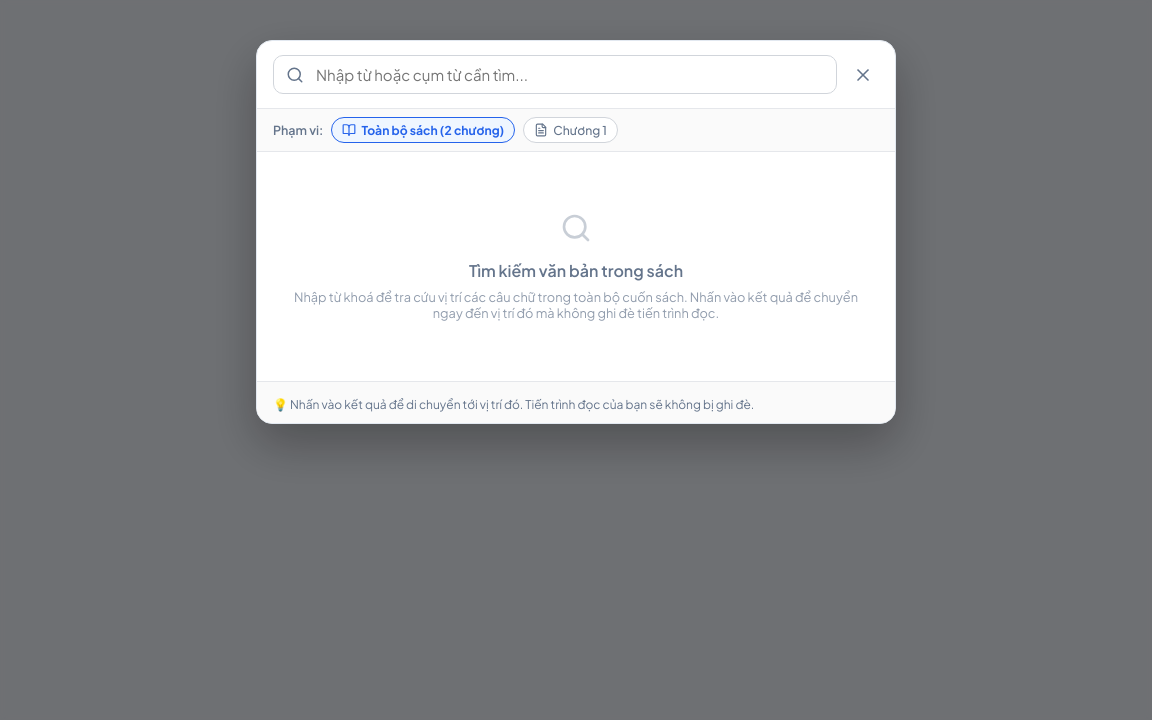
it: BookSearchModal › tìm kiếm trong chương hiện tại khi scope = current
Note: Chuyển sang scope Chương 1
Click the button "Chương 1" at (571, 130), box top-left (523, 117), bottom-right (618, 143)
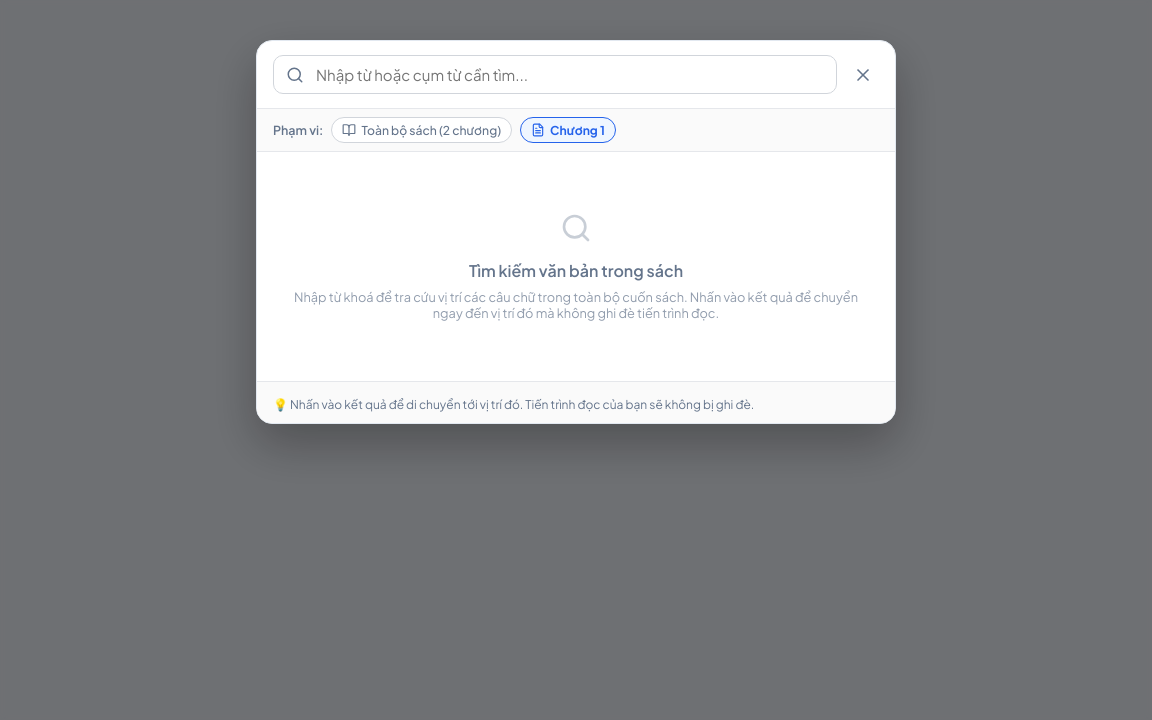
Type "ước mơ" into the field with placeholder "Nhập từ hoặc cụm từ cần tìm..." at (569, 74), box top-left (314, 64), bottom-right (824, 85)
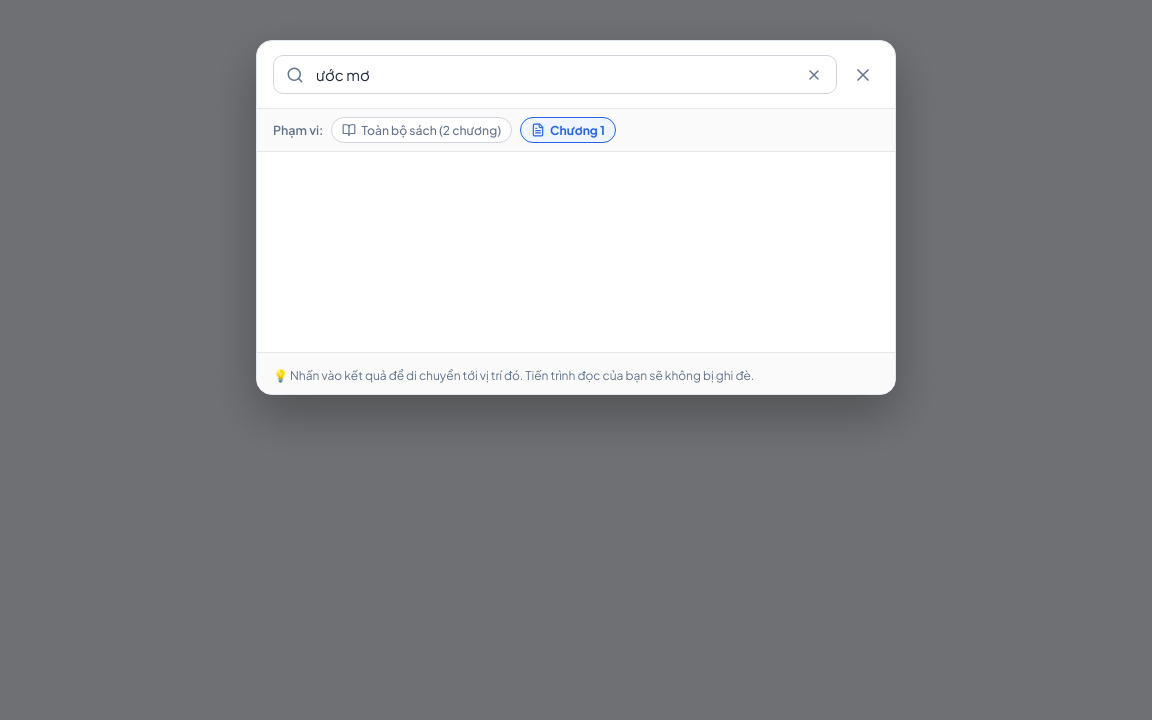
Press Enter in the field with placeholder "Nhập từ hoặc cụm từ cần tìm...", box top-left (314, 64), bottom-right (794, 85)
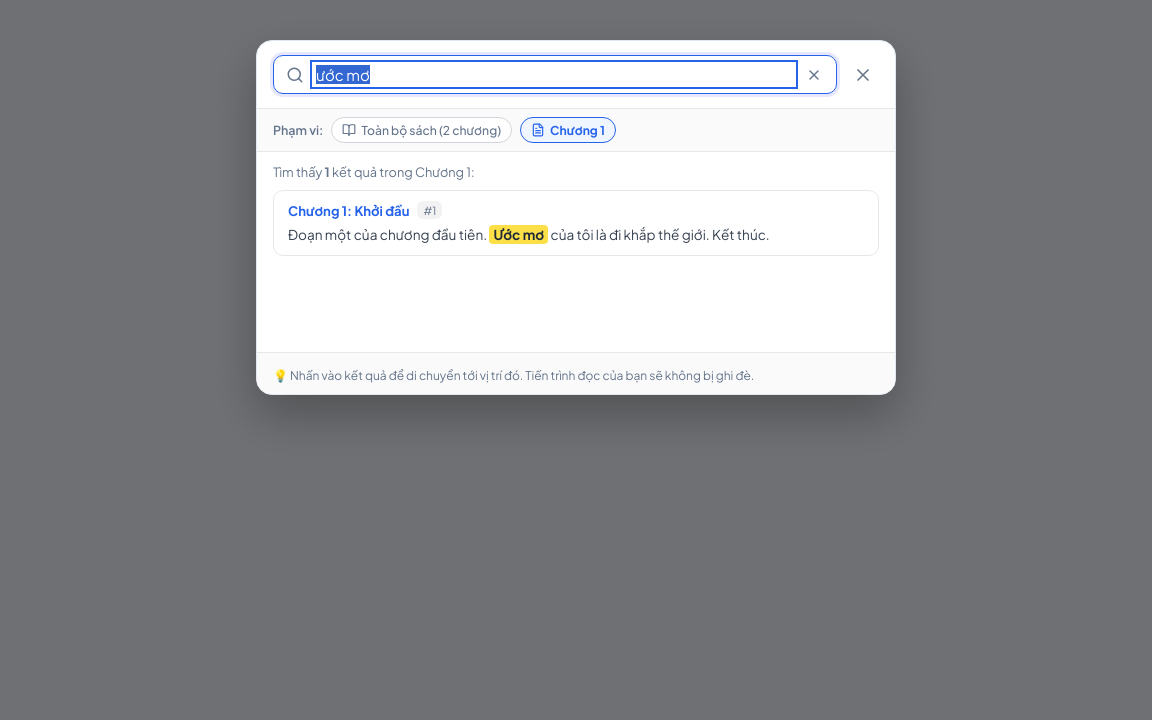
Expected: the text "Chương 1: Khởi đầu" is shown, top-left (288, 202), bottom-right (409, 218)
